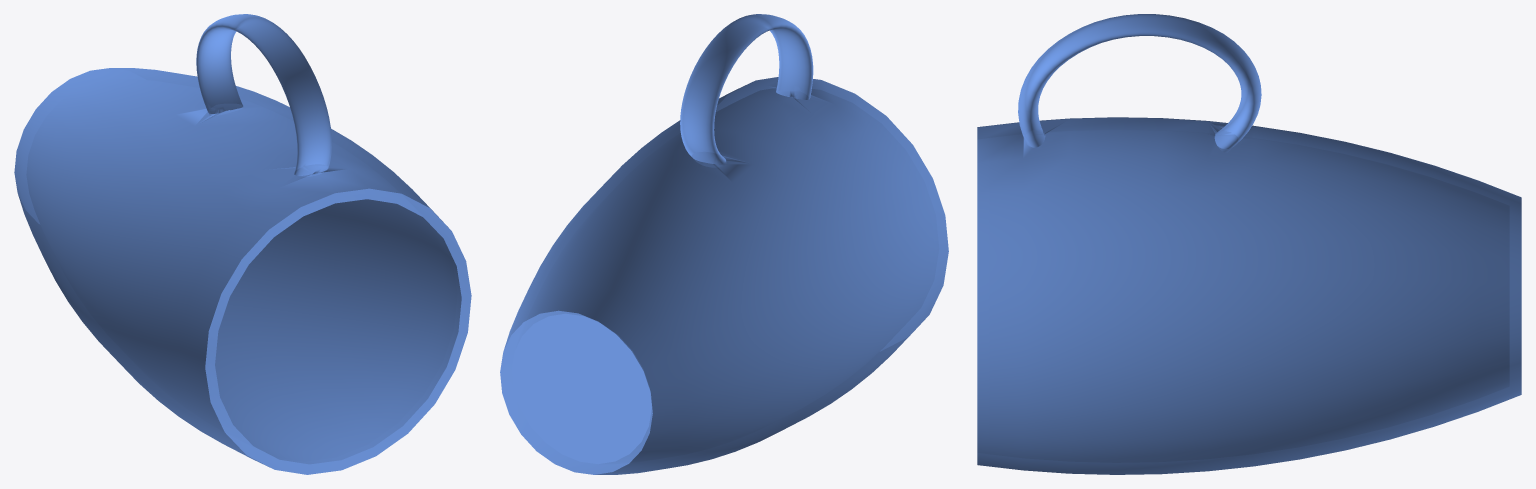
The model's file is model_scale.obj.
3 views of the same model, side by side, from view 1: azimuth 30°, elevation 25°; view 2: azimuth 150°, elevation 25°; view 3: azimuth 270°, elevation 25° (orthographic). The views are drawn at different scales.
Parts seen in each view (by area): view 1: mesh1_mesh1-geometry; view 2: mesh1_mesh1-geometry; view 3: mesh1_mesh1-geometry.
Part boxes in pixels (<box>): mesh1_mesh1-geometry: <box>14,14,471,474</box>; mesh1_mesh1-geometry: <box>500,14,948,474</box>; mesh1_mesh1-geometry: <box>977,14,1521,474</box>.
Size of the model in its own units: 0.0707 by 0.0954 by 0.1069.
